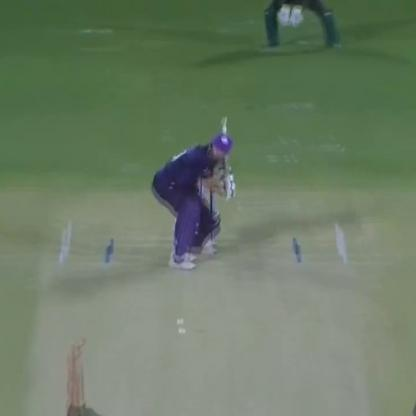ball: (171, 326, 194, 340), (171, 312, 186, 326)
pitch: (31, 216, 364, 415)
